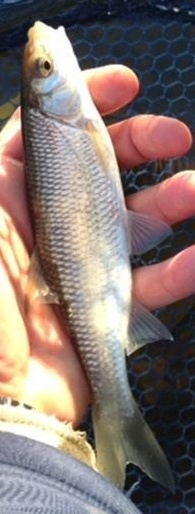Leuciscus leuciscus: (20, 20, 175, 494)
